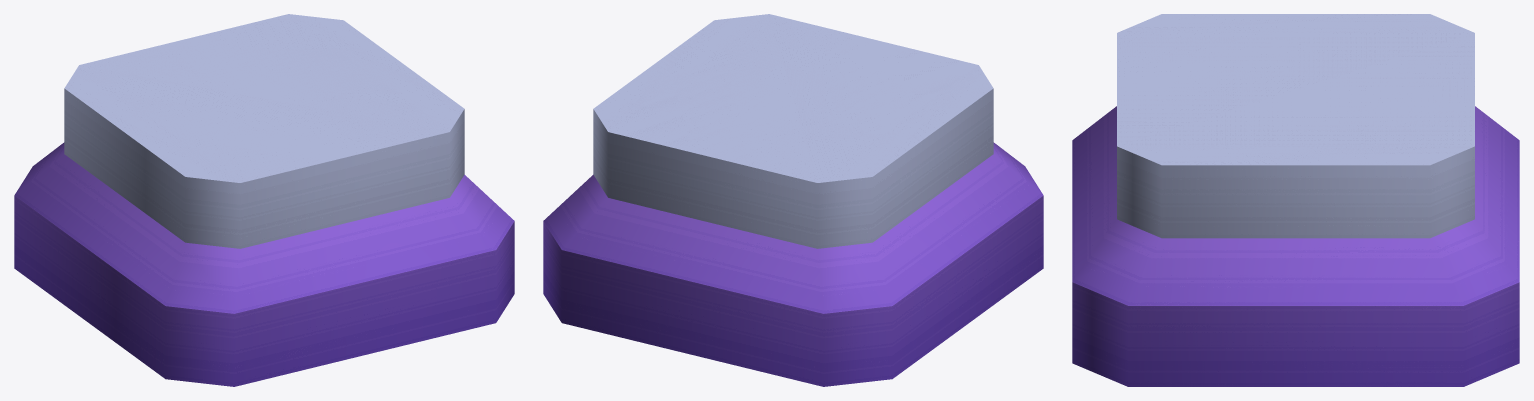
File: tower-square-bottom-a.glb
3 views of the same model, side by side, from view 1: azimuth 30°, elevation 25°; view 2: azimuth 150°, elevation 25°; view 3: azimuth 270°, elevation 25° (orthographic). The views are drawn at different scales.
Visible parts, largest first — view 1: tower-square-bottom-a; view 2: tower-square-bottom-a; view 3: tower-square-bottom-a.
Part boxes in pixels (box(x1,y1,x2,y2)): tower-square-bottom-a: box(14, 14, 514, 386); tower-square-bottom-a: box(543, 14, 1043, 386); tower-square-bottom-a: box(1072, 14, 1519, 386).
Bounding box in the file's own units: 3 × 1.5 × 3.
Materials: 1 (1 with a texture image).
